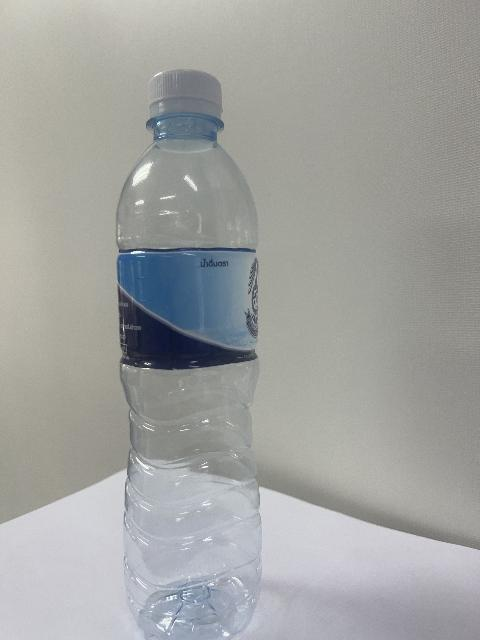bottle: (117, 70, 261, 639)
